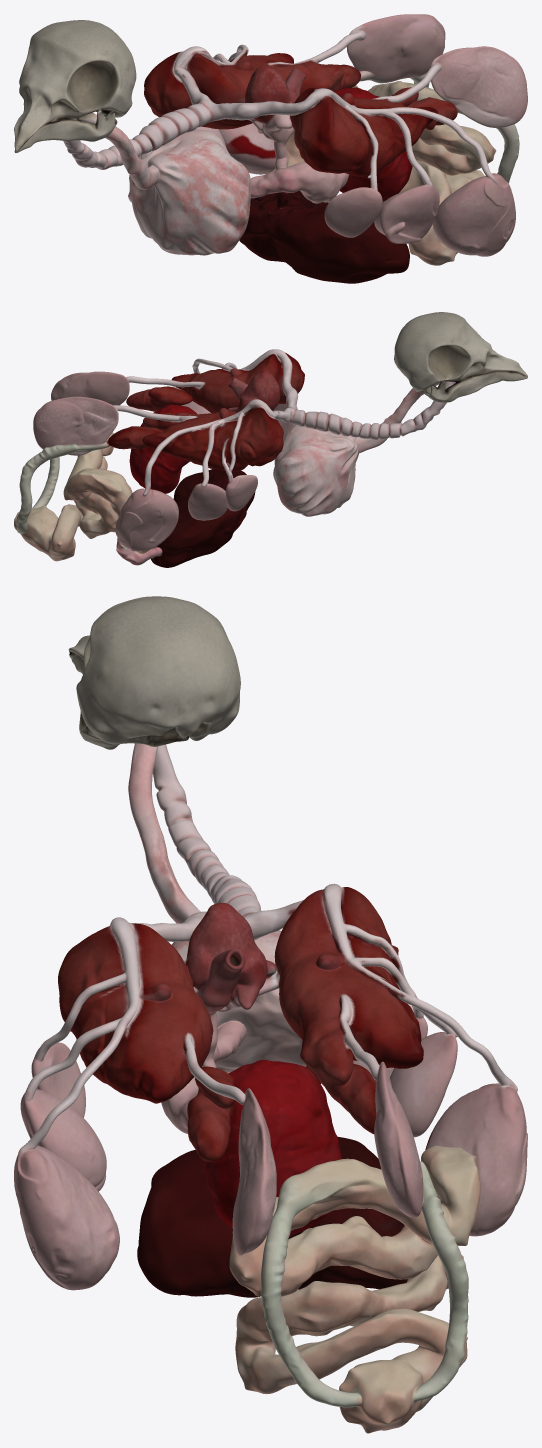
File: Lop11_Cơ quan trao đổi khí ở động vật_Tab2_Phổi chim và túi khí.glb
3 views of the same model, one above another, from view 1: azimuth 30°, elevation 25°; view 2: azimuth 150°, elevation 25°; view 3: azimuth 270°, elevation 25° (orthographic). The views are drawn at different scales.
Visible parts, largest first — view 1: tripo_node_89295aea-797c-4a9e-95b0-ff63e5e13f93; view 2: tripo_node_89295aea-797c-4a9e-95b0-ff63e5e13f93; view 3: tripo_node_89295aea-797c-4a9e-95b0-ff63e5e13f93.
Boxes of the visible parts, <box> form: tripo_node_89295aea-797c-4a9e-95b0-ff63e5e13f93: <box>14,14,527,283</box>; tripo_node_89295aea-797c-4a9e-95b0-ff63e5e13f93: <box>14,312,527,567</box>; tripo_node_89295aea-797c-4a9e-95b0-ff63e5e13f93: <box>14,596,527,1433</box>.
Bounding box in the file's own units: 1 × 0.6028 × 0.5453.
1 material, 1 textured.
